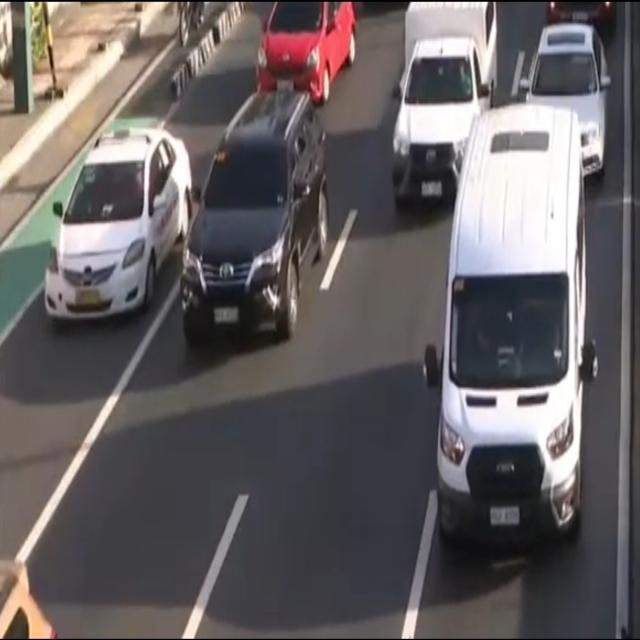SUV: (179, 95, 331, 358)
Sedan: (42, 130, 192, 334), (525, 24, 611, 178)
Van: (435, 110, 590, 546)
